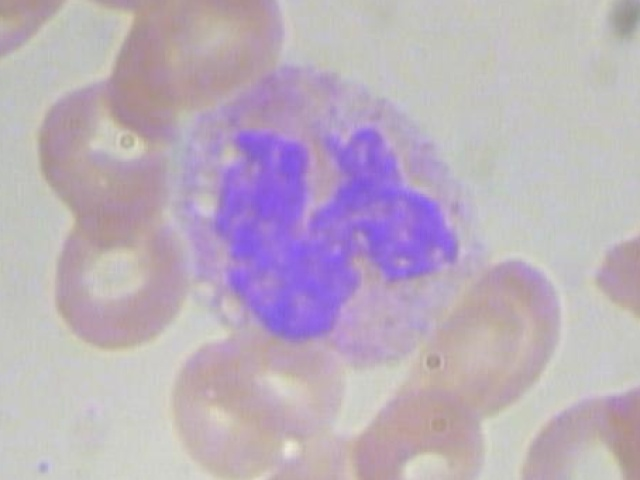RBC: (39, 192, 188, 361), (509, 382, 640, 480)
WBC: (159, 46, 495, 374)
